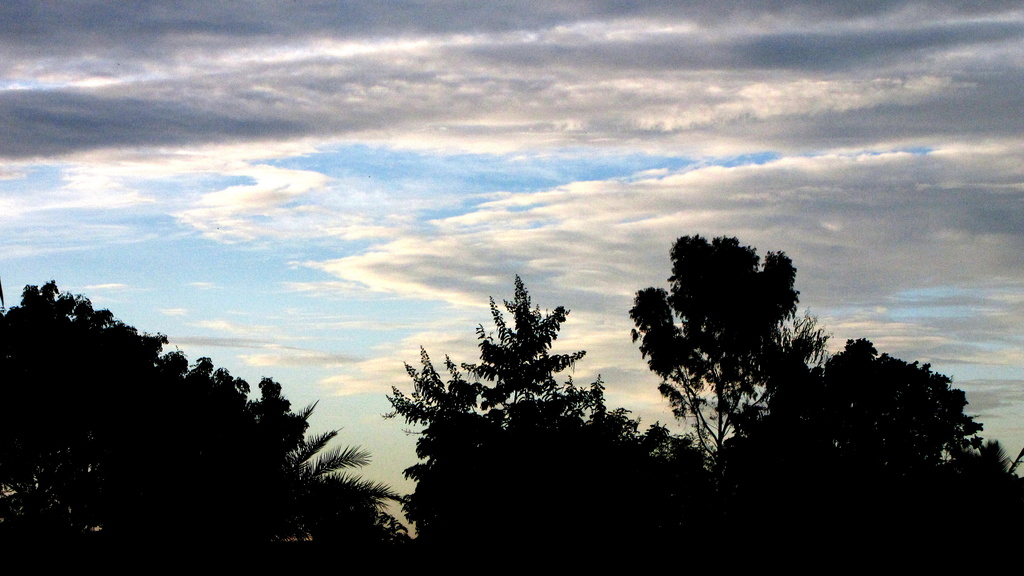Tree: (0, 280, 430, 575), (378, 270, 711, 568), (727, 343, 1023, 575), (618, 211, 849, 483)
